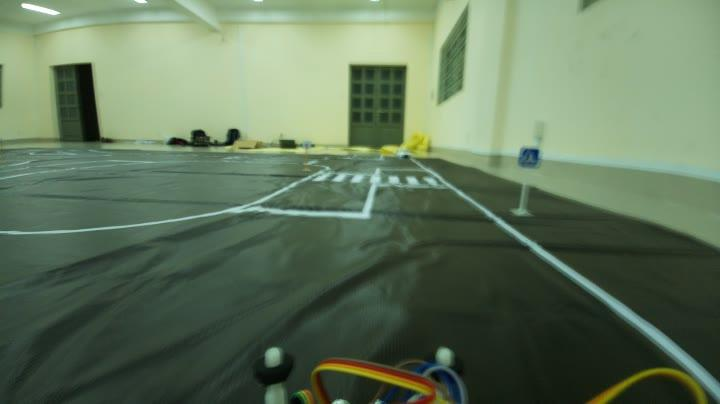crosswalk: (519, 144, 540, 169)
